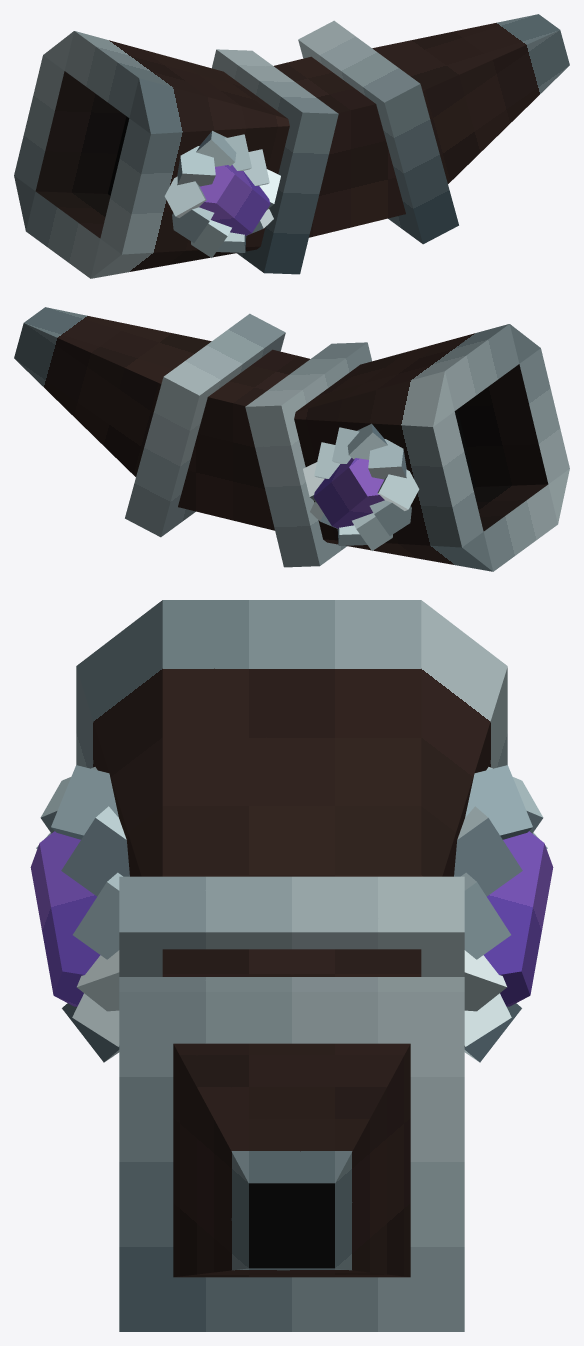
File: horn_arcane.obj
3 renders of one model, top to bottom at view 1: azimuth 30°, elevation 25°; view 2: azimuth 150°, elevation 25°; view 3: azimuth 270°, elevation 25°, orthographic. The views are drawn at different scales.
Parts seen in each view (by area): view 1: HORN_END, HORN_START, BRACE_START, BRACE_END, HORN_MID, HORN_EXTRA_ARCANE; view 2: HORN_END, HORN_START, BRACE_START, BRACE_END, HORN_MID, HORN_EXTRA_ARCANE; view 3: HORN_END, BRACE_START, HORN_START, HORN_EXTRA_ARCANE, BRACE_END, HORN_MID.
Boxes of the visible parts, x1,y1,x2,y2 form: HORN_END: (14,31,289,278); HORN_START: (372,14,569,183); BRACE_START: (298,20,458,244); BRACE_END: (212,49,338,274); HORN_MID: (274,56,405,237); HORN_EXTRA_ARCANE: (164,130,280,257); HORN_END: (294,324,569,571); HORN_START: (14,307,211,476); BRACE_START: (125,313,285,537); BRACE_END: (245,342,371,567); HORN_MID: (178,349,309,530); HORN_EXTRA_ARCANE: (303,423,419,550); HORN_END: (76,600,507,876); BRACE_START: (119,977,464,1331); HORN_START: (173,1043,410,1277); HORN_EXTRA_ARCANE: (30,765,553,1062); BRACE_END: (119,876,464,976); HORN_MID: (162,949,421,976).
Bounding box in the file's own units: 0.8375 × 0.3596 × 0.3784.
